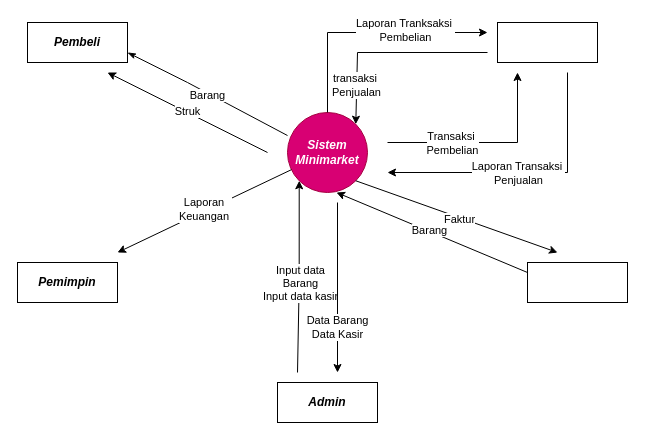
Some shapes in this 645 by 440 pixel diagram are drawn without their labels. The box of each missing label's shape, as (x1, y1, x2, y2) in pixels:
Kasir: (496, 22, 598, 62)
Supplier: (526, 262, 628, 302)
